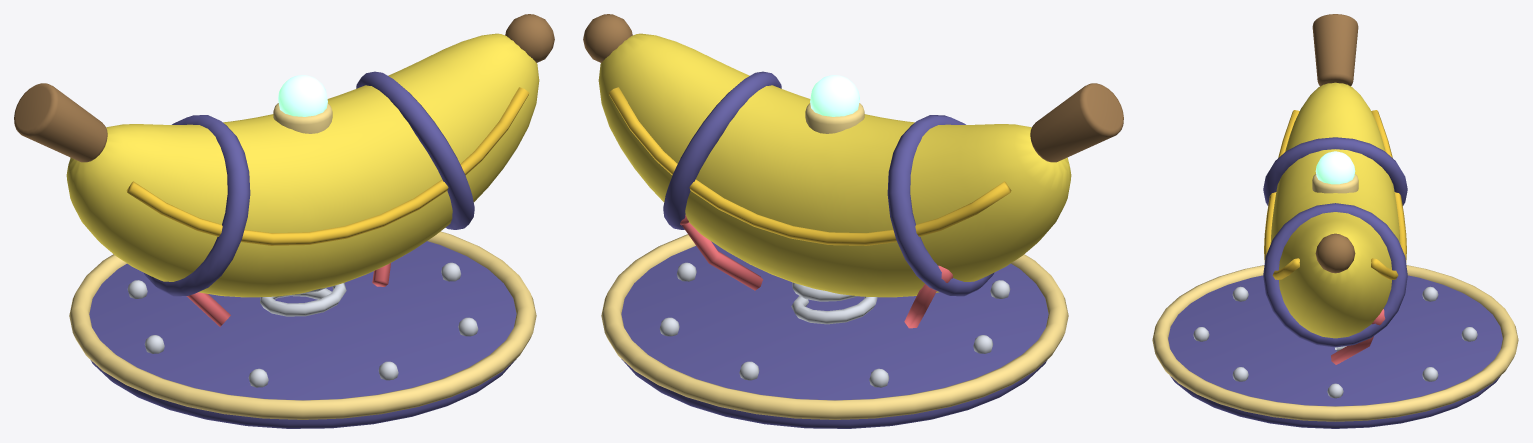
Rendered from banana.glb.
The picture shows the model from 3 angles, left to right: view 1: azimuth 30°, elevation 25°; view 2: azimuth 150°, elevation 25°; view 3: azimuth 270°, elevation 25°; orthographic projection. The views are drawn at different scales.
Parts seen in each view (by area): view 1: W_Banana__bn_yel, W_Banana__bn_navy, W_Banana__bn_gold, W_Banana__bn_brown, W_Banana__bn_yel2, W_Banana__bn_steel, W_Banana__bn_green, W_Banana__bn_red; view 2: W_Banana__bn_yel, W_Banana__bn_navy, W_Banana__bn_gold, W_Banana__bn_brown, W_Banana__bn_yel2, W_Banana__bn_steel, W_Banana__bn_red, W_Banana__bn_green; view 3: W_Banana__bn_navy, W_Banana__bn_yel, W_Banana__bn_gold, W_Banana__bn_brown, W_Banana__bn_yel2, W_Banana__bn_steel, W_Banana__bn_green, W_Banana__bn_red.
Boxes of the visible parts, left/top/right/bottom form: W_Banana__bn_yel: left=66, top=33, right=539, bottom=297; W_Banana__bn_navy: left=89, top=71, right=516, bottom=428; W_Banana__bn_gold: left=69, top=103, right=536, bottom=419; W_Banana__bn_brown: left=14, top=14, right=554, bottom=162; W_Banana__bn_yel2: left=126, top=87, right=529, bottom=245; W_Banana__bn_steel: left=127, top=262, right=478, bottom=387; W_Banana__bn_green: left=278, top=75, right=327, bottom=116; W_Banana__bn_red: left=186, top=263, right=390, bottom=326; W_Banana__bn_yel: left=598, top=33, right=1071, bottom=297; W_Banana__bn_navy: left=621, top=71, right=1048, bottom=428; W_Banana__bn_gold: left=601, top=103, right=1068, bottom=419; W_Banana__bn_brown: left=583, top=14, right=1123, bottom=162; W_Banana__bn_yel2: left=608, top=87, right=1011, bottom=245; W_Banana__bn_steel: left=659, top=262, right=1010, bottom=387; W_Banana__bn_red: left=680, top=215, right=952, bottom=328; W_Banana__bn_green: left=810, top=75, right=859, bottom=116; W_Banana__bn_navy: left=1168, top=137, right=1502, bottom=428; W_Banana__bn_yel: left=1270, top=82, right=1400, bottom=338; W_Banana__bn_gold: left=1152, top=174, right=1518, bottom=421; W_Banana__bn_brown: left=1312, top=14, right=1358, bottom=273; W_Banana__bn_yel2: left=1264, top=110, right=1406, bottom=279; W_Banana__bn_steel: left=1193, top=286, right=1477, bottom=398; W_Banana__bn_green: left=1315, top=151, right=1355, bottom=184; W_Banana__bn_red: left=1331, top=309, right=1385, bottom=364.
Size of the model in its own units: 0.8257 by 0.4657 by 0.628.
